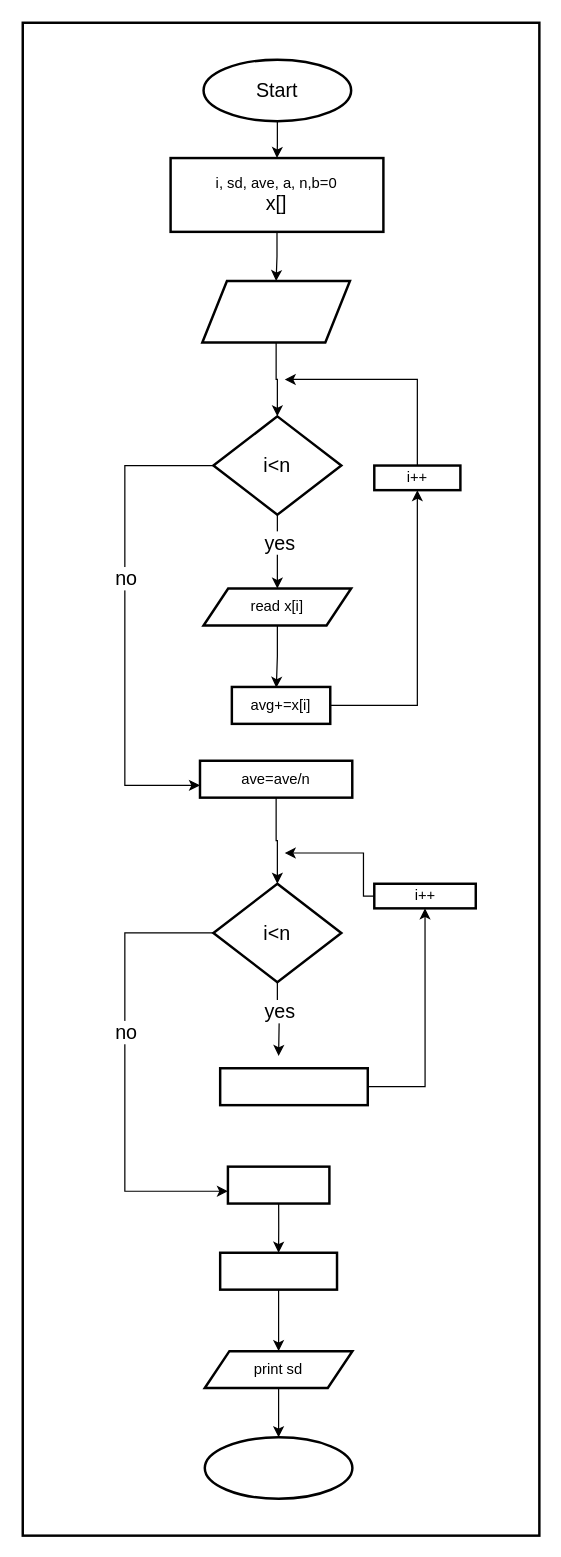
Some shapes in this 561 by 1557 pixel diagram are drawn without their labels. The box of each missing label's shape, as (x1, y1, x2, y2) in pixels:
a =+ sqr(x[i]-avg): (218, 1066, 368, 1106)
b = a / n: (226, 1165, 330, 1204)
End: (203, 1435, 353, 1499)
read n: (200, 279, 351, 343)
sd = sqrt(b): (218, 1251, 338, 1290)
